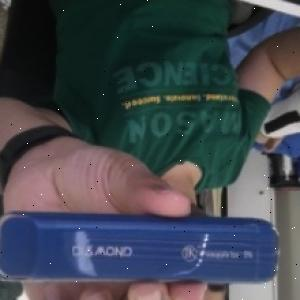Diamond-E-Ciggirate: (0, 209, 286, 290)
